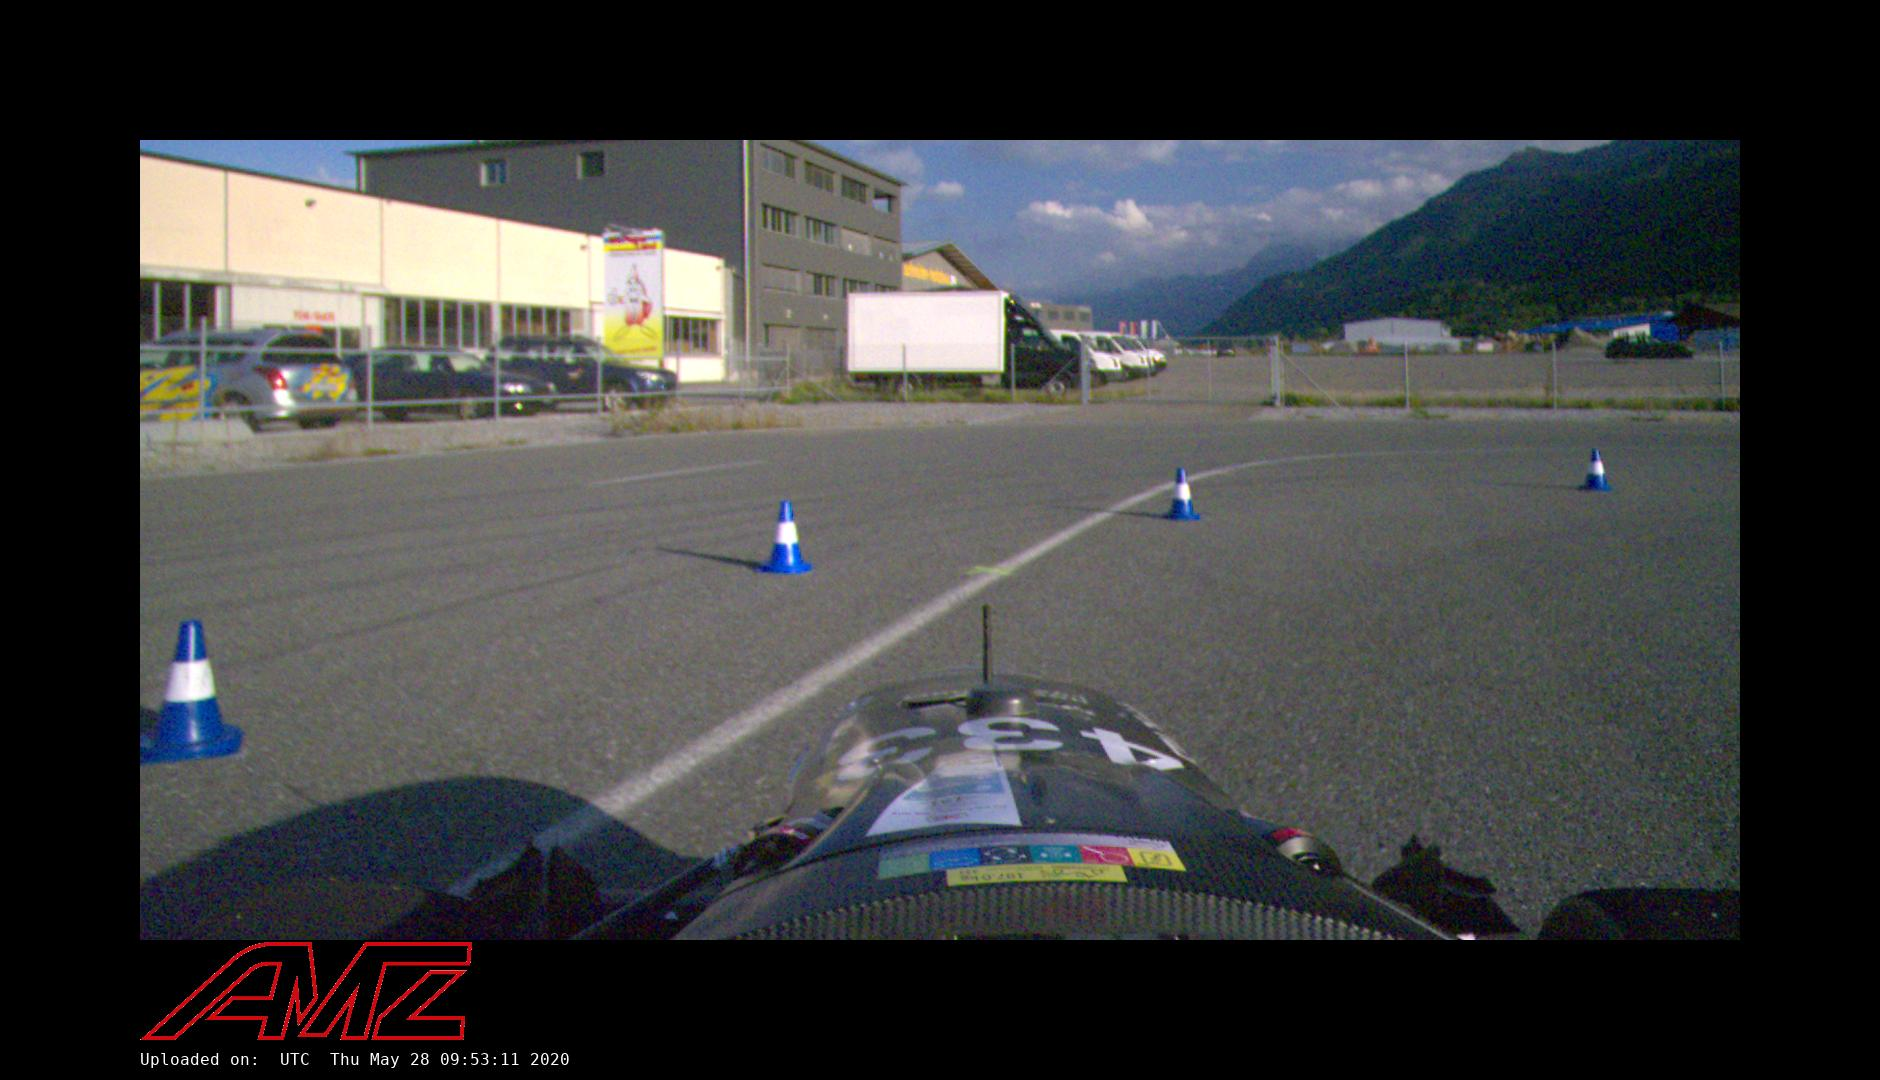blue_cone: (139, 621, 244, 762), (757, 501, 812, 574), (1163, 468, 1200, 521), (1579, 448, 1611, 491)
